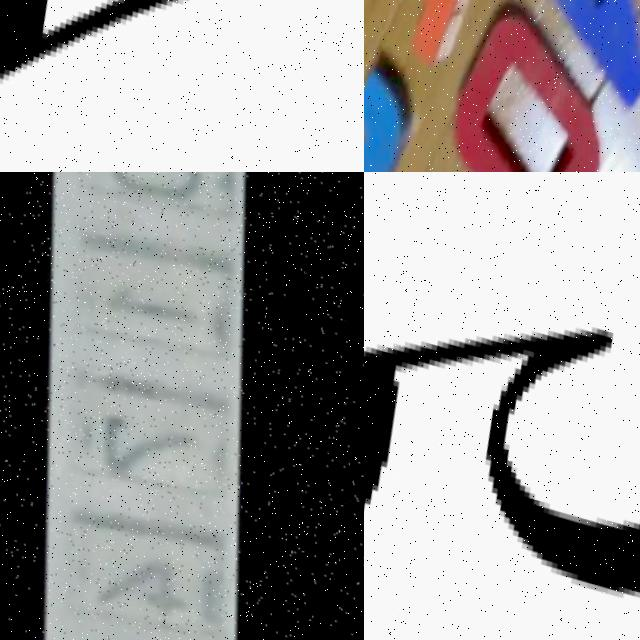0: (82, 172, 220, 216)
1: (77, 250, 205, 355)
4: (58, 520, 200, 640)
5: (364, 172, 640, 640)
7: (0, 0, 364, 172), (67, 382, 213, 497)
I: (364, 0, 505, 70)
J: (364, 27, 421, 172)
N: (475, 0, 640, 117)
O: (412, 0, 615, 172)
